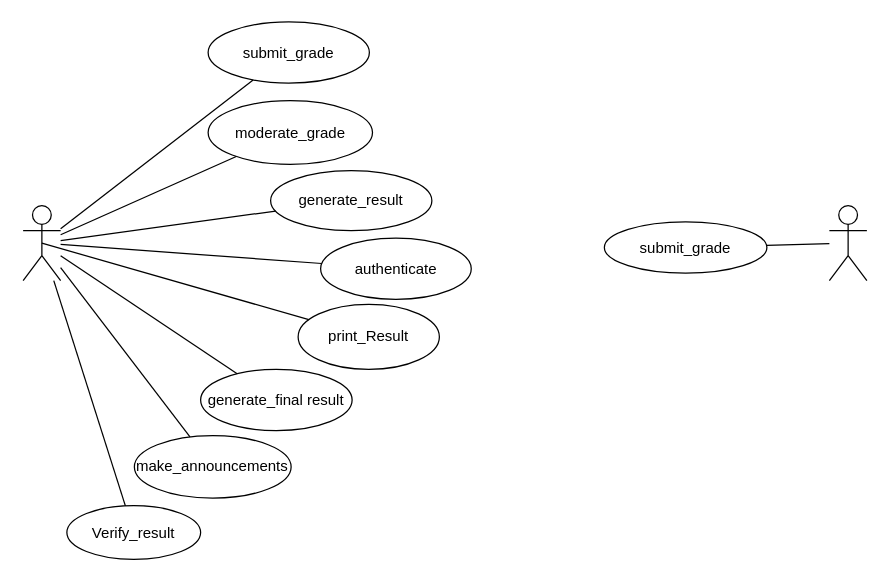
This 891x581 diagram has some shape labels left out. Each missing label, with the centre of its shape:
acad admin: point 41,242
faculty: point 847,242
